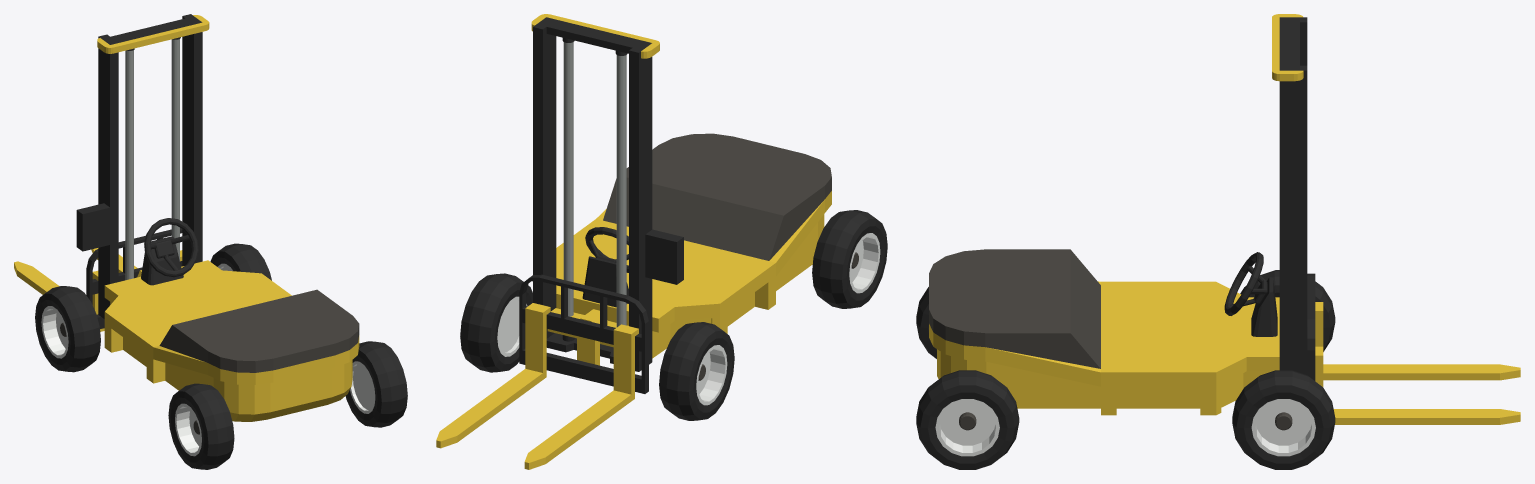
Rendered from Forklift.fbx.
3 renders of one model, left to right at view 1: azimuth 30°, elevation 25°; view 2: azimuth 150°, elevation 25°; view 3: azimuth 270°, elevation 25°, orthographic. The views are drawn at different scales.
Visible parts, largest first — view 1: ForkLift.001, Forklift, Forklift.001, Lift.009, Lift.010, WheelRL, WheelFL, WheelRR, Lift.008, Lift.007, WheelFR, Lift (+2 smaller); view 2: ForkLift.001, Forklift, Lift.010, Lift.009, WheelRL, WheelFL, Lift, WheelFR, Lift.005, Lift.004, Lift.008, Forklift.001 (+6 smaller); view 3: Forklift, ForkLift.001, Lift.010, WheelFR, WheelRR, Forklift.001, Lift.005, Lift.004, Lift.008, SteeringWheelBase, WheelFL, Lift (+1 smaller).
Boxes of the visible parts, box(x1,y1,x2,y2) form: ForkLift.001: box(159, 289, 359, 372); Forklift: box(104, 260, 291, 382); Forklift.001: box(153, 335, 359, 421); Lift.009: box(98, 34, 134, 312); Lift.010: box(171, 14, 202, 266); WheelRL: box(168, 383, 234, 469); WheelFL: box(35, 286, 100, 372); WheelRR: box(345, 341, 407, 427); Lift.008: box(97, 15, 209, 53); Lift.007: box(76, 203, 109, 251); WheelFR: box(210, 243, 271, 280); Lift: box(86, 228, 182, 328); ForkLift.001: box(603, 133, 831, 260); Forklift: box(556, 219, 775, 358); Lift.010: box(533, 25, 574, 341); Lift.009: box(615, 49, 652, 364); WheelRL: box(812, 210, 887, 308); WheelFL: box(659, 322, 734, 420); Lift: box(519, 274, 648, 393); WheelFR: box(460, 273, 532, 372); Lift.005: box(524, 390, 634, 469); Lift.004: box(436, 369, 546, 448); Lift.008: box(531, 14, 659, 58); Forklift.001: box(596, 191, 831, 290); Forklift: box(1101, 281, 1279, 415); ForkLift.001: box(929, 249, 1100, 368); Lift.010: box(1279, 65, 1307, 374); WheelFR: box(1232, 370, 1335, 469); WheelRR: box(916, 370, 1019, 469); Forklift.001: box(929, 281, 1100, 408); Lift.005: box(1323, 364, 1520, 380); Lift.004: box(1333, 409, 1520, 424); Lift.008: box(1272, 14, 1303, 81); SteeringWheelBase: box(1251, 277, 1277, 336); WheelFL: box(1240, 270, 1335, 351); Lift: box(1307, 273, 1315, 380).
Bounding box in the file's own units: 3.48 × 5.19 × 7.65.
1 material, 1 textured.
